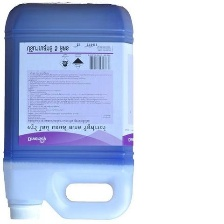cleaning_solution: (0, 0, 136, 222)
